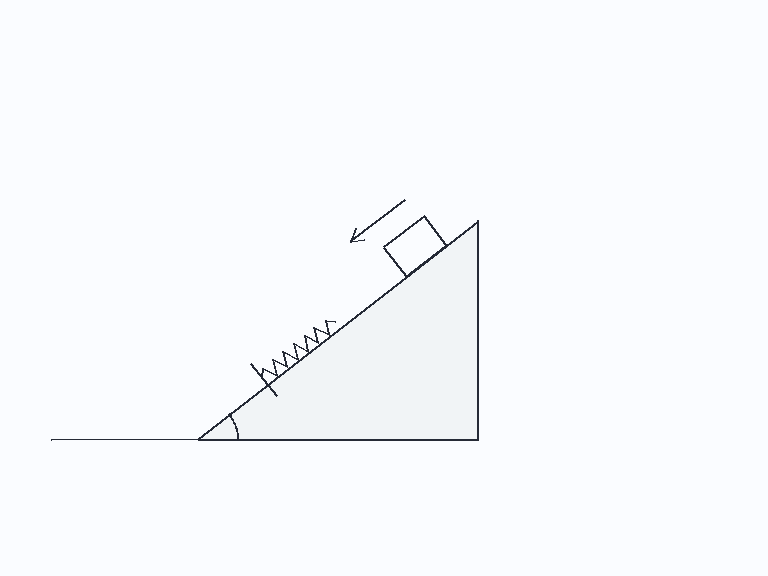block: (381, 213, 448, 278)
ramp: (196, 219, 479, 441)
spring: (260, 317, 337, 379)
